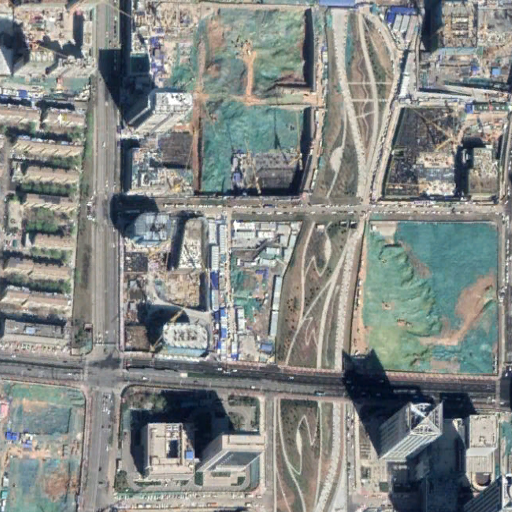cw: (166, 5, 312, 200), (354, 218, 500, 374), (3, 380, 84, 512)
